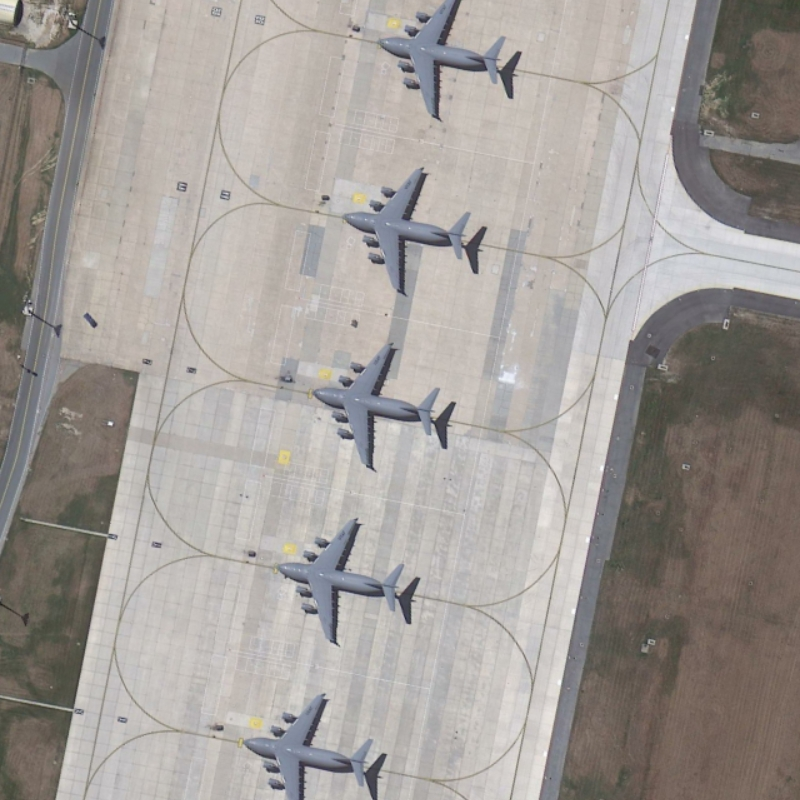A3: (270, 513, 408, 650), (337, 166, 477, 299), (309, 338, 442, 472), (371, 2, 509, 119), (236, 689, 376, 800)
